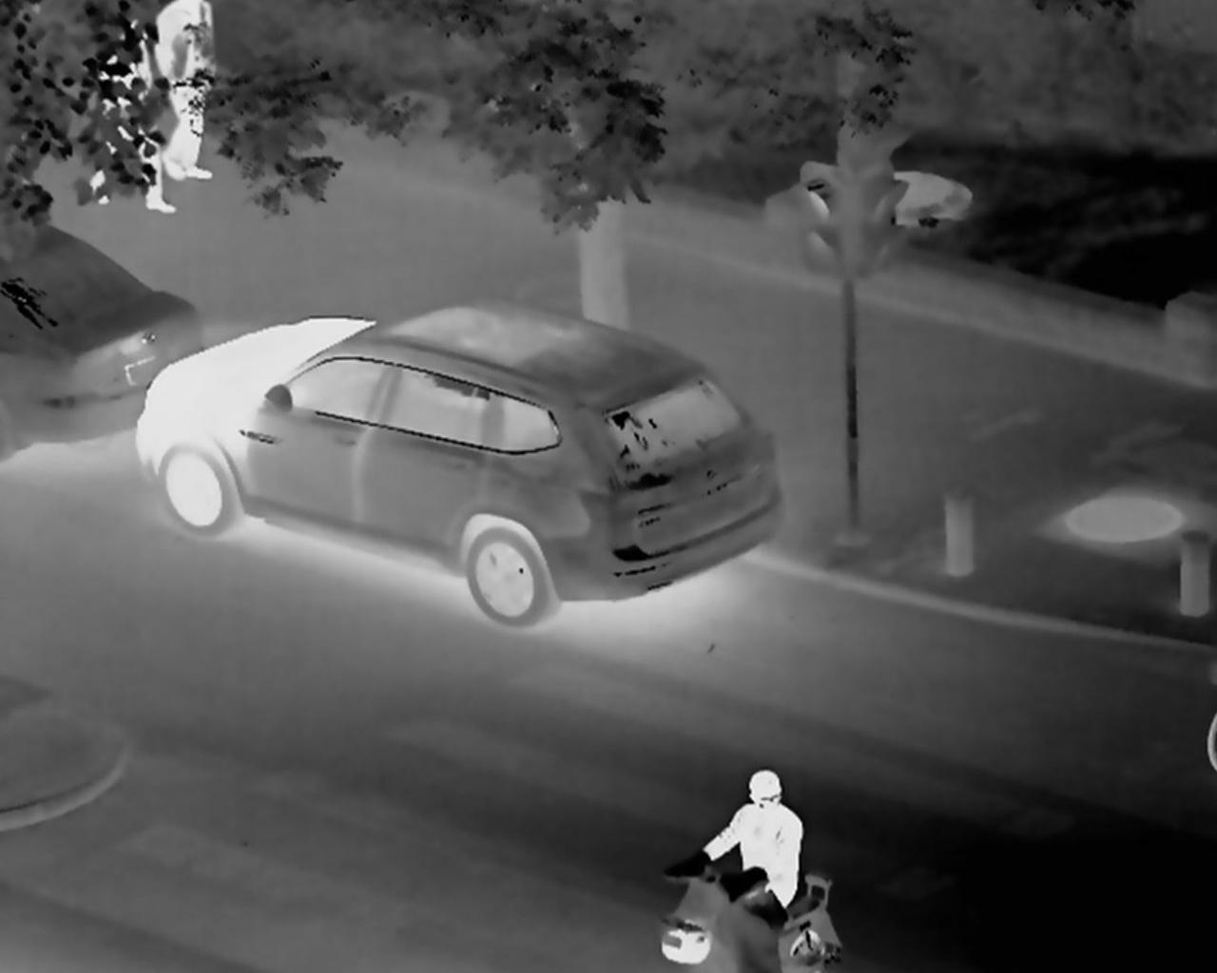person: (702, 768, 819, 951), (140, 6, 237, 206)
